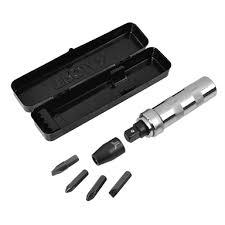screwdriver: (92, 76, 217, 161), (108, 169, 131, 196), (49, 154, 78, 175), (84, 174, 106, 200), (63, 169, 87, 192)
